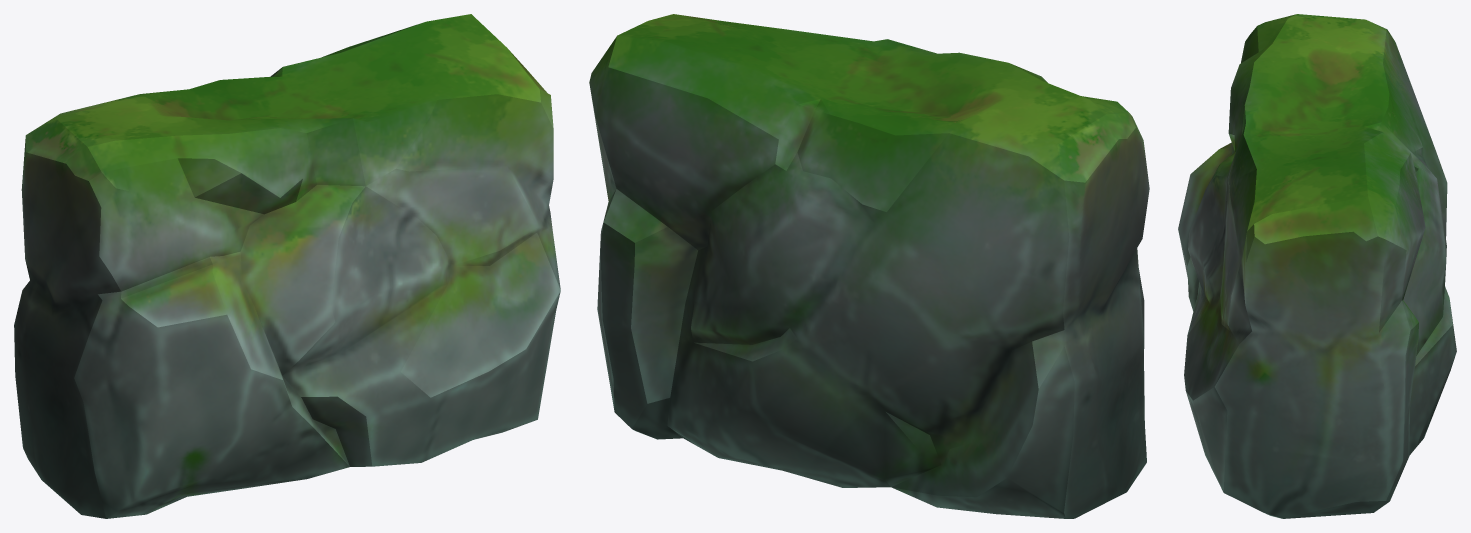
The model's file is Prop_Cliff_2.fbx.
3 renders of one model, left to right at view 1: azimuth 30°, elevation 25°; view 2: azimuth 150°, elevation 25°; view 3: azimuth 270°, elevation 25°, orthographic. The views are drawn at different scales.
Visible parts, largest first — view 1: cliff; view 2: cliff; view 3: cliff.
Boxes of the visible parts, x1,y1,x2,y2 form: cliff: (14, 14, 560, 518); cliff: (589, 14, 1149, 518); cliff: (1178, 14, 1456, 518).
Bounding box in the file's own units: 204 × 157 × 118.
Materials: 1 (1 with a texture image).
